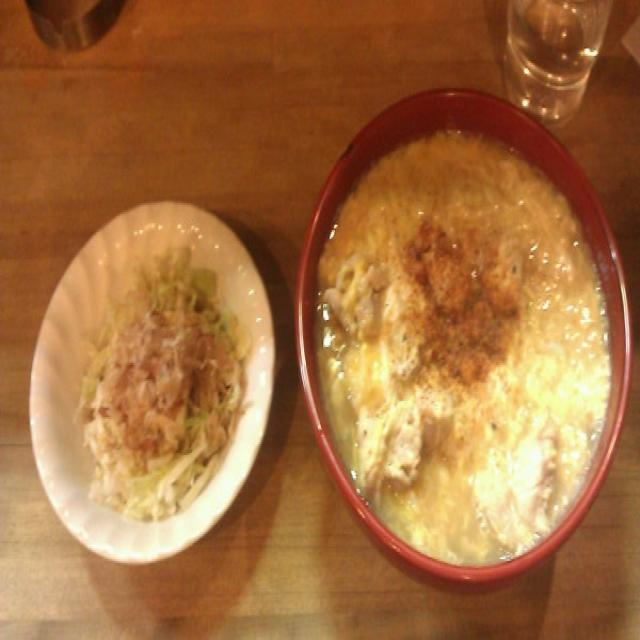Green Salad: (85, 260, 243, 516)
